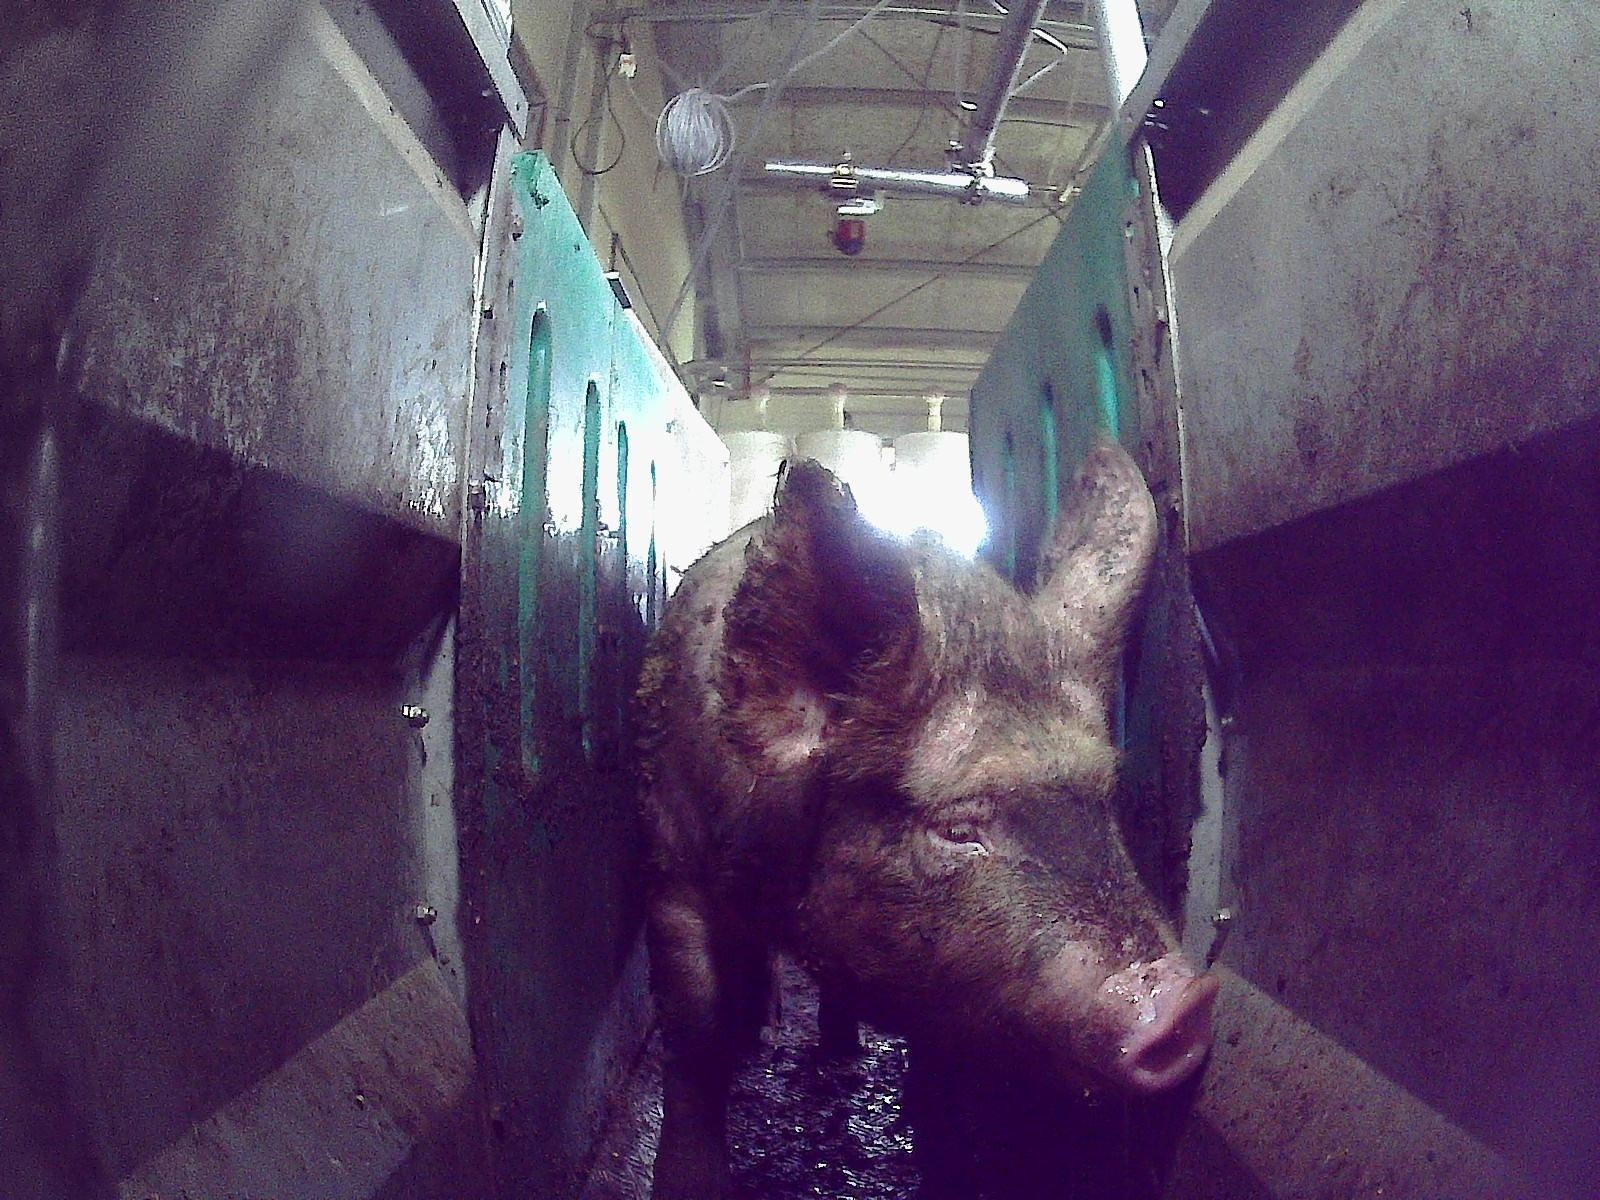Face: (795, 576, 1217, 1103)
